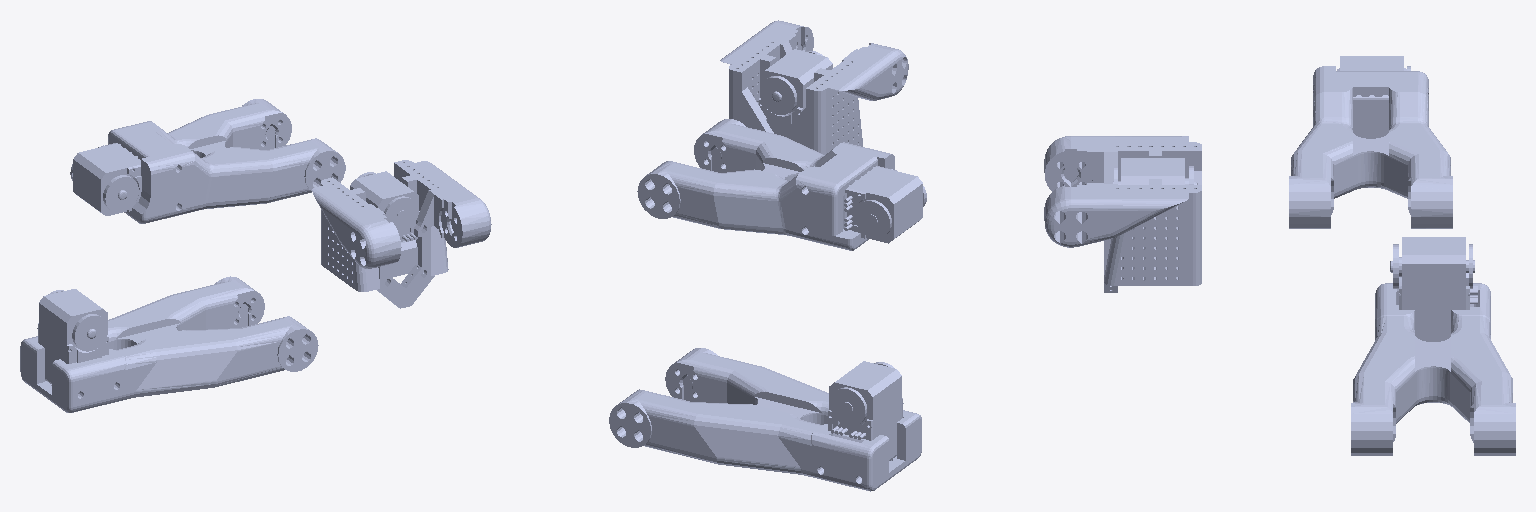
URDF robot description (SO_5DOF_ARM100_8j_URDF.SLDASM):
<?xml version="1.0" encoding="utf-8"?>
<!-- This URDF was automatically created by SolidWorks to URDF Exporter! Originally created by [author] ([email redacted]) 
     Commit Version: 1.6.0-1-g15f4949  Build Version: 1.6.7594.29634
     For more information, please see http://wiki.ros.org/sw_urdf_exporter -->
<robot
  name="SO_5DOF_ARM100_8j_URDF.SLDASM">
  <link
    name="Base">
    <inertial>
      <origin
        xyz="-2.45960666746703E-07 0.0311418169687909 0.0175746661003382"
        rpy="0 0 0" />
      <mass
        value="0.193184127927598" />
      <inertia
        ixx="0.000137030709467877"
        ixy="2.10136126944992E-08"
        ixz="4.24087422551286E-09"
        iyy="0.000169089551209259"
        iyz="2.26514711036514E-05"
        izz="0.000145097720857224" />
    </inertial>
    <visual>
      <origin
        xyz="0 0 0"
        rpy="0 0 0" />
      <geometry>
        <mesh
          filename="package://SO_5DOF_ARM100_8j_URDF.SLDASM/meshes/Base.STL" />
      </geometry>
      <material
        name="">
        <color
          rgba="0.792156862745098 0.819607843137255 0.933333333333333 1" />
      </material>
    </visual>
    <collision>
      <origin
        xyz="0 0 0"
        rpy="0 0 0" />
      <geometry>
        <mesh
          filename="package://SO_5DOF_ARM100_8j_URDF.SLDASM/meshes/Base.STL" />
      </geometry>
    </collision>
  </link>
  <link
    name="Rotation_Pitch">
    <inertial>
      <origin
        xyz="-9.07886224712597E-05 0.0590971820568318 0.031089016892169"
        rpy="0 0 0" />
      <mass
        value="0.119226314127197" />
      <inertia
        ixx="5.90408775624429E-05"
        ixy="4.90800532852998E-07"
        ixz="-5.90451772654387E-08"
        iyy="3.21498601038881E-05"
        iyz="-4.58026206663885E-06"
        izz="5.86058514263952E-05" />
    </inertial>
    <visual>
      <origin
        xyz="0 0 0"
        rpy="0 0 0" />
      <geometry>
        <mesh
          filename="package://SO_5DOF_ARM100_8j_URDF.SLDASM/meshes/Rotation_Pitch.STL" />
      </geometry>
      <material
        name="">
        <color
          rgba="0.792156862745098 0.819607843137255 0.933333333333333 1" />
      </material>
    </visual>
    <collision>
      <origin
        xyz="0 0 0"
        rpy="0 0 0" />
      <geometry>
        <mesh
          filename="package://SO_5DOF_ARM100_8j_URDF.SLDASM/meshes/Rotation_Pitch.STL" />
      </geometry>
    </collision>
  </link>
  <joint
    name="Rotation"
    type="continuous">
    <origin
      xyz="0 -0.0452 0.0165"
      rpy="1.5708 0 0" />
    <parent
      link="Base" />
    <child
      link="Rotation_Pitch" />
    <axis
      xyz="0 1 0" />
  </joint>
  <link
    name="Upper_Arm">
    <inertial>
      <origin
        xyz="-1.7205170190925E-05 0.0701802156327694 0.00310545118155671"
        rpy="0 0 0" />
      <mass
        value="0.162409284599177" />
      <inertia
        ixx="0.000167153146617081"
        ixy="1.03902689187701E-06"
        ixz="-1.20161820645189E-08"
        iyy="7.01946992214245E-05"
        iyz="2.11884806298698E-06"
        izz="0.000213280241160769" />
    </inertial>
    <visual>
      <origin
        xyz="0 0 0"
        rpy="0 0 0" />
      <geometry>
        <mesh
          filename="package://SO_5DOF_ARM100_8j_URDF.SLDASM/meshes/Upper_Arm.STL" />
      </geometry>
      <material
        name="">
        <color
          rgba="0.792156862745098 0.819607843137255 0.933333333333333 1" />
      </material>
    </visual>
    <collision>
      <origin
        xyz="0 0 0"
        rpy="0 0 0" />
      <geometry>
        <mesh
          filename="package://SO_5DOF_ARM100_8j_URDF.SLDASM/meshes/Upper_Arm.STL" />
      </geometry>
    </collision>
  </link>
  <joint
    name="Pitch"
    type="continuous">
    <origin
      xyz="0 0.1025 0.0306"
      rpy="0 0 0" />
    <parent
      link="Rotation_Pitch" />
    <child
      link="Upper_Arm" />
    <axis
      xyz="1 0 0" />
  </joint>
  <link
    name="Lower_Arm">
    <inertial>
      <origin
        xyz="-0.00339603710186651 0.00137796353960074 0.0768006751156044"
        rpy="0 0 0" />
      <mass
        value="0.147967774582291" />
      <inertia
        ixx="0.000105333995841409"
        ixy="1.73059237226499E-07"
        ixz="-1.1720305455211E-05"
        iyy="0.000138766654485212"
        iyz="1.77429964684103E-06"
        izz="5.08741652515214E-05" />
    </inertial>
    <visual>
      <origin
        xyz="0 0 0"
        rpy="0 0 0" />
      <geometry>
        <mesh
          filename="package://SO_5DOF_ARM100_8j_URDF.SLDASM/meshes/Lower_Arm.STL" />
      </geometry>
      <material
        name="">
        <color
          rgba="0.792156862745098 0.819607843137255 0.933333333333333 1" />
      </material>
    </visual>
    <collision>
      <origin
        xyz="0 0 0"
        rpy="0 0 0" />
      <geometry>
        <mesh
          filename="package://SO_5DOF_ARM100_8j_URDF.SLDASM/meshes/Lower_Arm.STL" />
      </geometry>
    </collision>
  </link>
  <joint
    name="Elbow"
    type="continuous">
    <origin
      xyz="0 0.11257 0.028"
      rpy="0 0 0" />
    <parent
      link="Upper_Arm" />
    <child
      link="Lower_Arm" />
    <axis
      xyz="1 0 0" />
  </joint>
  <link
    name="Wrist_Pitch_Roll">
    <inertial>
      <origin
        xyz="-0.00852653127372418 -0.0352278997897927 -2.34622481569413E-05"
        rpy="0 0 0" />
      <mass
        value="0.066132067097723" />
      <inertia
        ixx="1.95717492443445E-05"
        ixy="-6.62714374412293E-07"
        ixz="5.20089016442066E-09"
        iyy="2.38028417569933E-05"
        iyz="4.09549055863776E-08"
        izz="3.4540143384536E-05" />
    </inertial>
    <visual>
      <origin
        xyz="0 0 0"
        rpy="0 0 0" />
      <geometry>
        <mesh
          filename="package://SO_5DOF_ARM100_8j_URDF.SLDASM/meshes/Wrist_Pitch_Roll.STL" />
      </geometry>
      <material
        name="">
        <color
          rgba="0.792156862745098 0.819607843137255 0.933333333333333 1" />
      </material>
    </visual>
    <collision>
      <origin
        xyz="0 0 0"
        rpy="0 0 0" />
      <geometry>
        <mesh
          filename="package://SO_5DOF_ARM100_8j_URDF.SLDASM/meshes/Wrist_Pitch_Roll.STL" />
      </geometry>
    </collision>
  </link>
  <joint
    name="Wrist_Pitch"
    type="continuous">
    <origin
      xyz="0 0.0052 0.1349"
      rpy="0 0 0" />
    <parent
      link="Lower_Arm" />
    <child
      link="Wrist_Pitch_Roll" />
    <axis
      xyz="1 0 0" />
  </joint>
  <link
    name="Fixed_Jaw">
    <inertial>
      <origin
        xyz="0.00552376906426563 -0.0280167153359021 0.000483582592841092"
        rpy="0 0 0" />
      <mass
        value="0.0929859131176897" />
      <inertia
        ixx="4.3328249304211E-05"
        ixy="7.09654328670947E-06"
        ixz="5.99838530879484E-07"
        iyy="3.04451747368212E-05"
        iyz="-1.58743247545413E-07"
        izz="5.02460913506734E-05" />
    </inertial>
    <visual>
      <origin
        xyz="0 0 0"
        rpy="0 0 0" />
      <geometry>
        <mesh
          filename="package://SO_5DOF_ARM100_8j_URDF.SLDASM/meshes/Fixed_Jaw.STL" />
      </geometry>
      <material
        name="">
        <color
          rgba="0.792156862745098 0.819607843137255 0.933333333333333 1" />
      </material>
    </visual>
    <collision>
      <origin
        xyz="0 0 0"
        rpy="0 0 0" />
      <geometry>
        <mesh
          filename="package://SO_5DOF_ARM100_8j_URDF.SLDASM/meshes/Fixed_Jaw.STL" />
      </geometry>
    </collision>
  </link>
  <joint
    name="Wrist_Roll"
    type="continuous">
    <origin
      xyz="0 -0.0601 0"
      rpy="0 0 0" />
    <parent
      link="Wrist_Pitch_Roll" />
    <child
      link="Fixed_Jaw" />
    <axis
      xyz="0 1 0" />
  </joint>
  <link
    name="Moving Jaw">
    <inertial>
      <origin
        xyz="-0.00161744605468241 -0.0303472584046471 0.000449645961853651"
        rpy="0 0 0" />
      <mass
        value="0.0202443794940372" />
      <inertia
        ixx="1.10911325081525E-05"
        ixy="-5.35076503033314E-07"
        ixz="-9.46105662101403E-09"
        iyy="3.03576451001973E-06"
        iyz="-1.71146075110632E-07"
        izz="8.9916083370498E-06" />
    </inertial>
    <visual>
      <origin
        xyz="0 0 0"
        rpy="0 0 0" />
      <geometry>
        <mesh
          filename="package://SO_5DOF_ARM100_8j_URDF.SLDASM/meshes/Moving Jaw.STL" />
      </geometry>
      <material
        name="">
        <color
          rgba="0.792156862745098 0.819607843137255 0.933333333333333 1" />
      </material>
    </visual>
    <collision>
      <origin
        xyz="0 0 0"
        rpy="0 0 0" />
      <geometry>
        <mesh
          filename="package://SO_5DOF_ARM100_8j_URDF.SLDASM/meshes/Moving Jaw.STL" />
      </geometry>
    </collision>
  </link>
  <joint
    name="Jaw"
    type="continuous">
    <origin
      xyz="-0.0202 -0.0244 0"
      rpy="3.1416 0 3.1416" />
    <parent
      link="Fixed_Jaw" />
    <child
      link="Moving Jaw" />
    <axis
      xyz="0 0 1" />
  </joint>
</robot>

--- Facts derived from the render (not from the file) ---
Views: 3 orthographic renders of the robot side by side, from view 1: azimuth 30°, elevation 25°; view 2: azimuth 150°, elevation 25°; view 3: azimuth 270°, elevation 25°.
Robot: SO_5DOF_ARM100_8j_URDF.SLDASM — 7 links, 6 joints (6 continuous); root link Base; default pose: every joint at zero.
Visible links, largest first — view 1: Upper_Arm, Lower_Arm, Wrist_Pitch_Roll; view 2: Upper_Arm, Lower_Arm, Wrist_Pitch_Roll; view 3: Upper_Arm, Wrist_Pitch_Roll, Lower_Arm.
Link boxes in pixels (x1,y1,x2,y2): Upper_Arm: (20, 276, 318, 412); Lower_Arm: (70, 99, 345, 223); Wrist_Pitch_Roll: (312, 160, 491, 308); Upper_Arm: (609, 348, 921, 491); Lower_Arm: (637, 119, 926, 250); Wrist_Pitch_Roll: (720, 20, 908, 154); Upper_Arm: (1351, 237, 1515, 455); Wrist_Pitch_Roll: (1044, 136, 1201, 292); Lower_Arm: (1289, 56, 1452, 228).
Bounding box of the posed robot: 0.1672 × 0.2119 × 0.1466 m (x, y, z).
3 mesh visuals loaded from 7 distinct referenced files (3 binary STL); not drawn: 4 (reference not matched to a file when rendering).